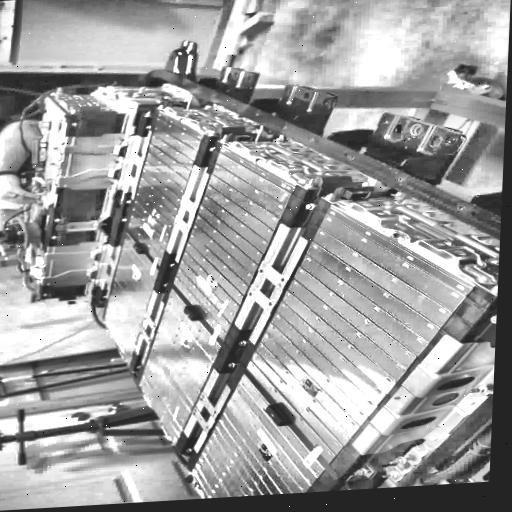battery_module: (245, 204, 475, 463), (172, 144, 296, 342), (190, 374, 325, 498), (139, 287, 221, 444), (125, 109, 206, 266), (102, 233, 158, 365)
connector: (0, 212, 46, 255)
nut: (386, 453, 417, 465), (466, 383, 494, 394), (351, 466, 374, 477), (303, 201, 319, 210), (182, 445, 197, 454), (488, 311, 497, 326), (225, 360, 239, 369), (238, 338, 251, 346), (331, 487, 353, 491), (47, 233, 59, 240), (167, 261, 178, 268), (207, 145, 219, 151), (134, 362, 144, 369), (161, 281, 172, 287), (70, 121, 80, 127), (50, 217, 62, 222), (40, 291, 51, 296)
